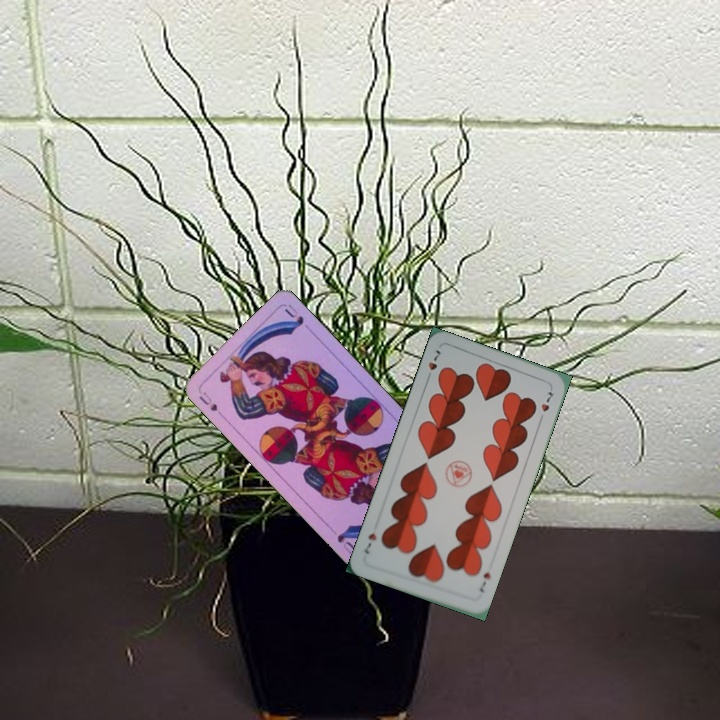H7: (422, 345, 443, 383), (475, 568, 493, 595)
SU: (195, 388, 220, 414)
